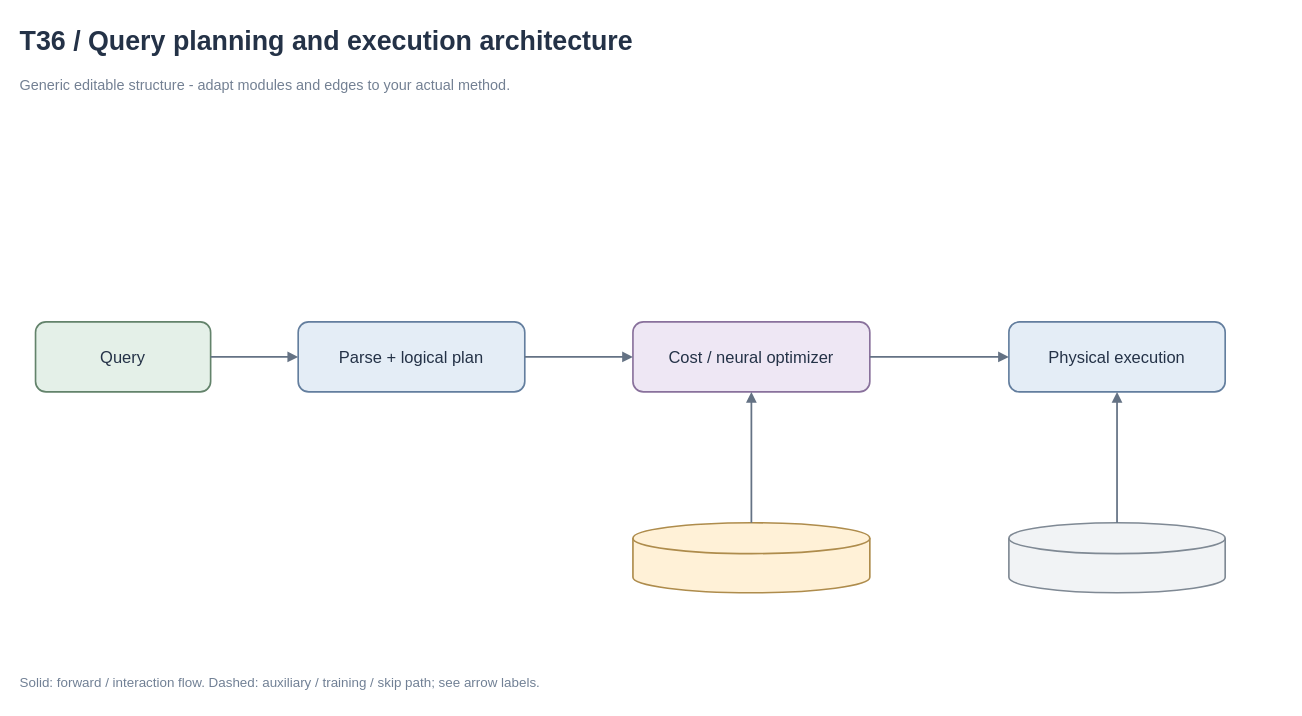
Some shapes in this 1302 by 716 pixel diagram are drawn without their labels. The centre of each missing label's shape, as x and y in pixels:
"Catalog + statistics Metadata input only" belongs at (x=751, y=557).
"Data storage" belongs at (x=1116, y=557).
